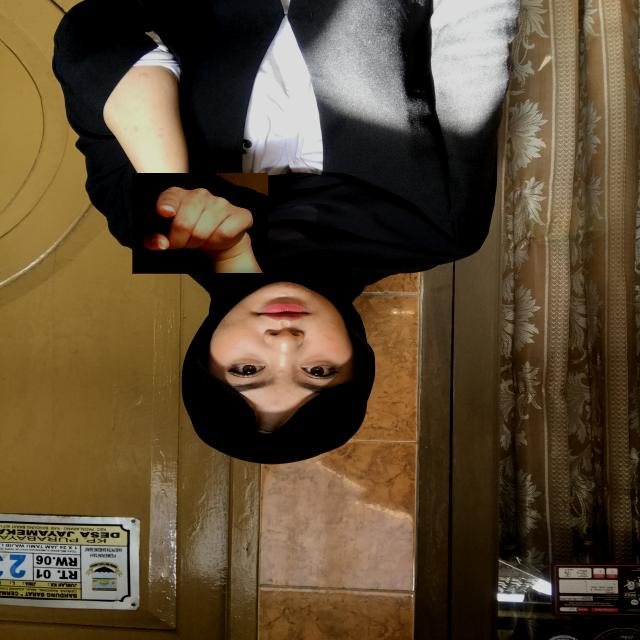kamu: (132, 173, 268, 274)
